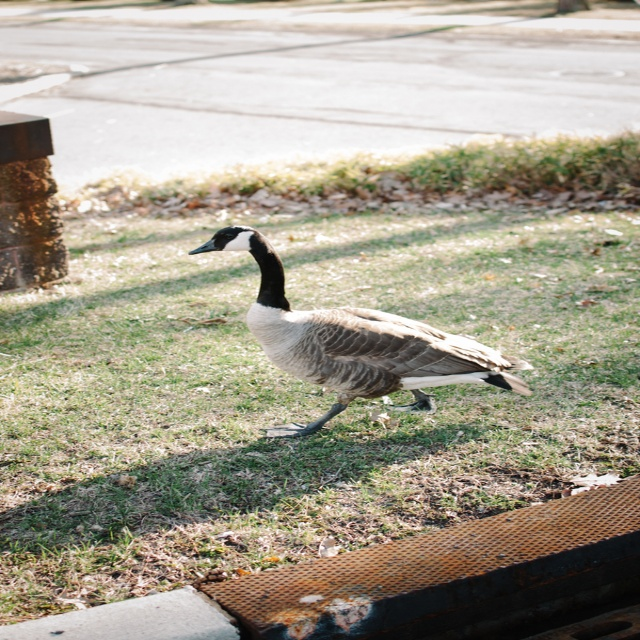Duck: (178, 222, 549, 453)
